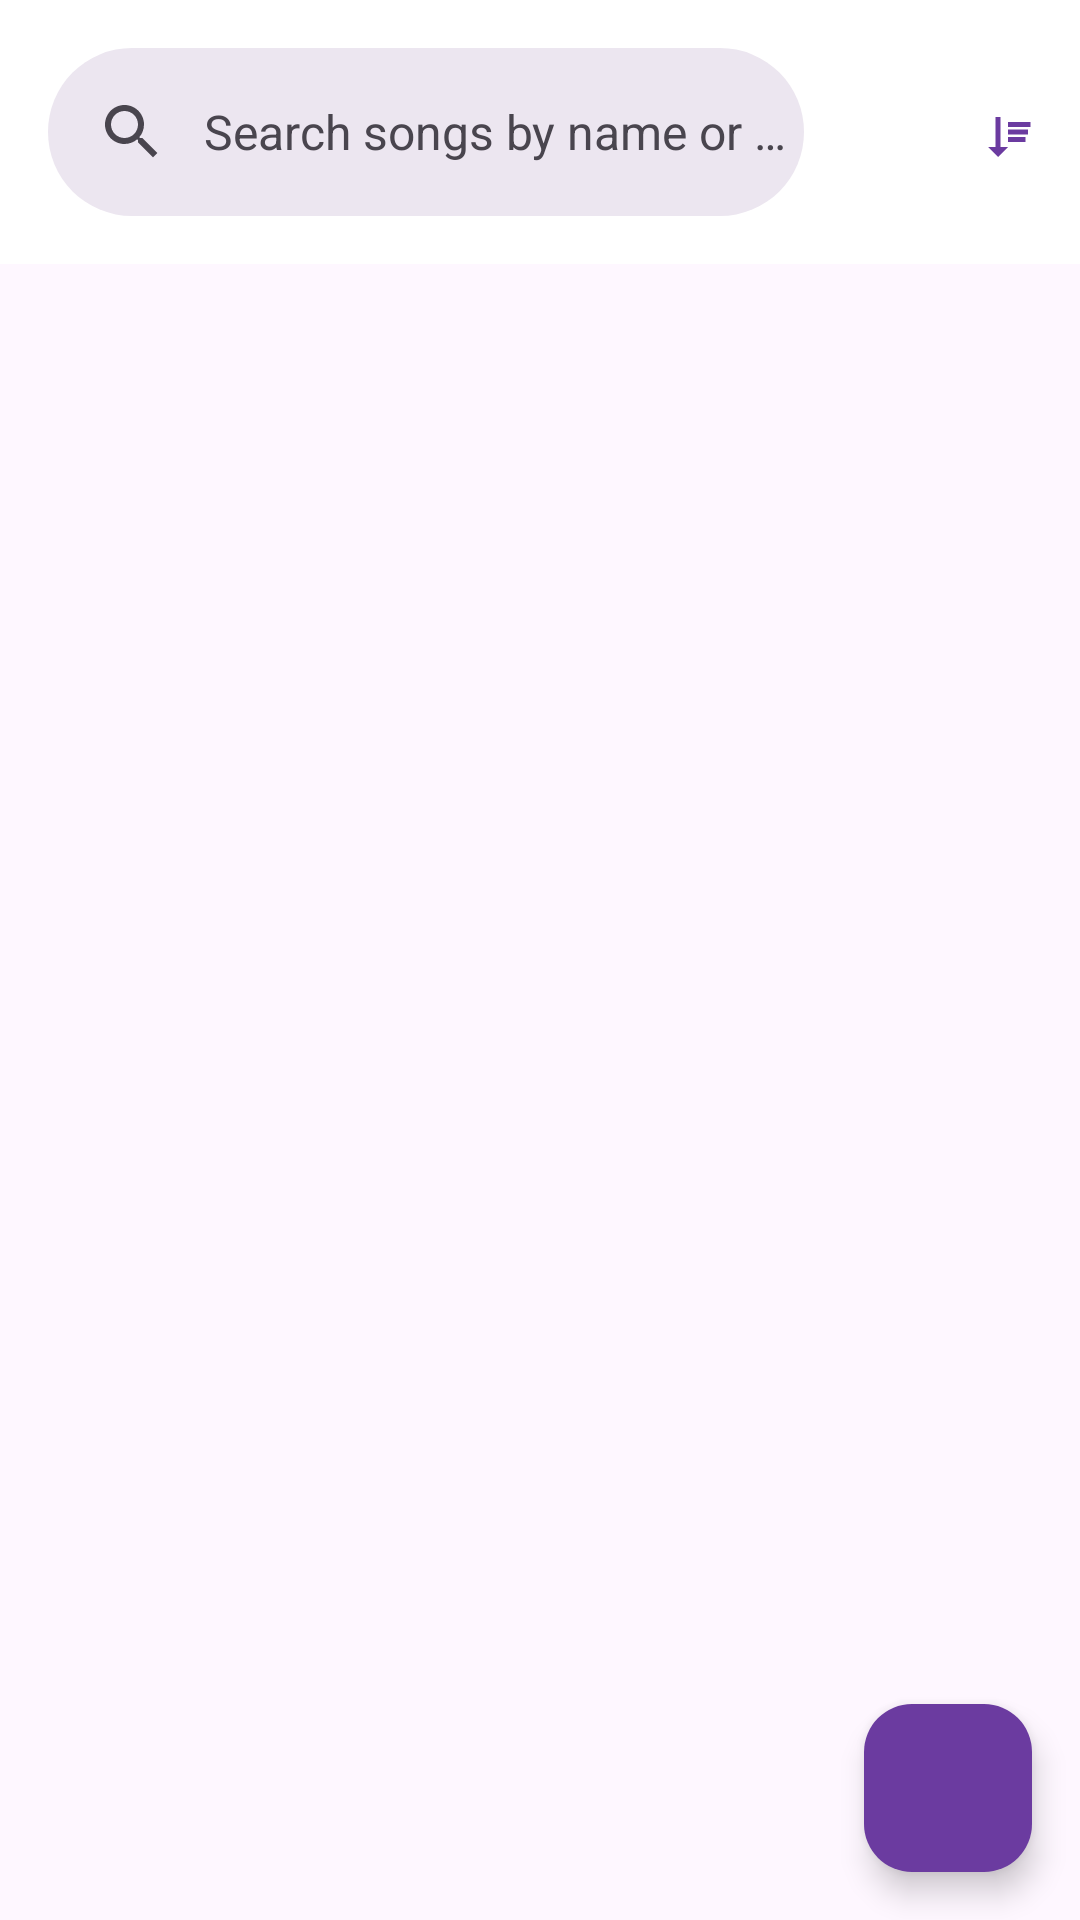

Named icons in this screenshot (1080 × 1920) and their bounding boxes, {"x1": x1, "y1": y1, "x2": x2, "y2": y2}:
Sort direction: {"x1": 988, "y1": 117, "x2": 1031, "y2": 157}
